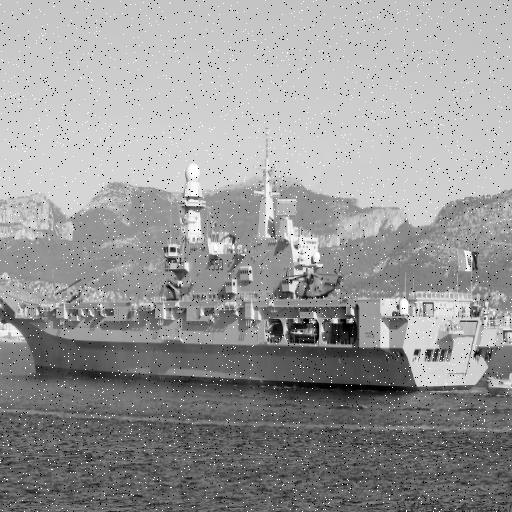Portanaves: (1, 120, 512, 399)
